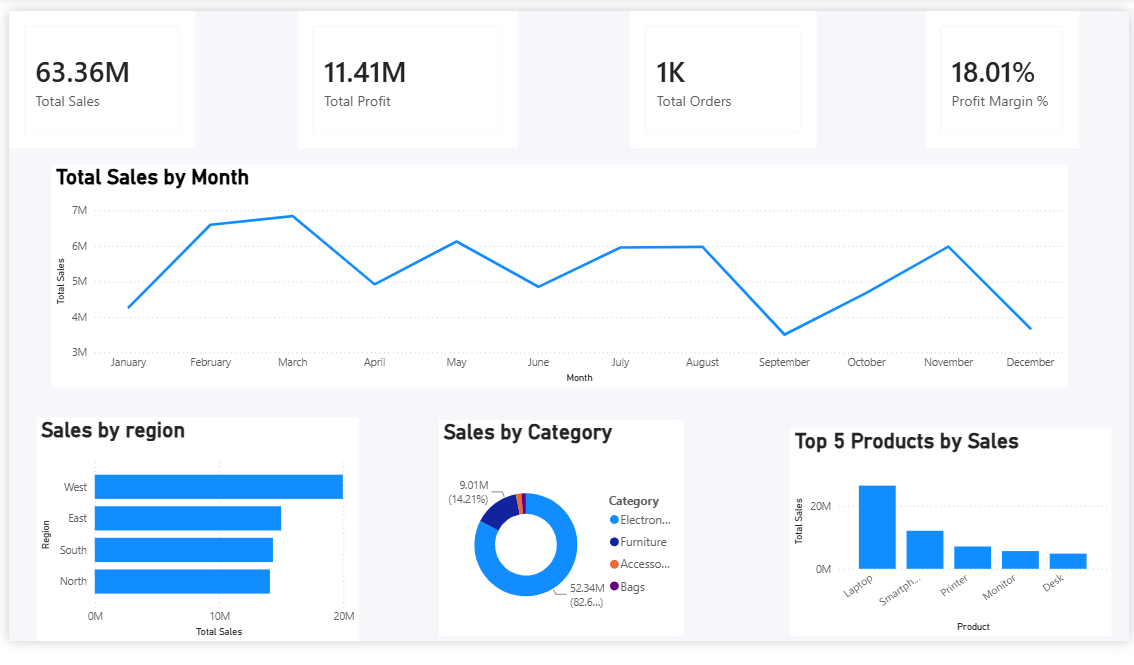

Layout of this report page (visuals, bound fields, positions):
{"tool":"powerbi","page":{"name":"Executive Dashboard","canvas":[1280,720],"ordinal":0},"visuals":[{"type":"cardVisual","fields":{"Data":["Sheet1.Total Sales"]},"box":[0,0,212.9,157.1],"z":0},{"type":"lineChart","fields":{"Y":["Sheet1.Total Sales"],"Category":["Sheet1.Order_Date.Variation.Date Hierarchy.Year","Sheet1.Order_Date.Variation.Date Hierarchy.Quarter","Sheet1.Order_Date.Variation.Date Hierarchy.Month"]},"box":[48,176,1161.4,254.3],"z":1000},{"type":"clusteredBarChart","title":"Sales by region","fields":{"Y":["Sheet1.Total Sales"],"Category":["Sheet1.Region"]},"box":[32,464,368,256],"z":2000},{"type":"donutChart","title":"Sales by Category","fields":{"Category":["Sheet1.Category"],"Y":["Sheet1.Total Sales"]},"box":[491.4,467.1,280,247.5],"z":3000},{"type":"clusteredColumnChart","title":"Top 5 Products by Sales","fields":{"Y":["Sheet1.Total Sales"],"Category":["Sheet1.Product"]},"box":[892.9,477.1,367.1,237.1],"z":4000},{"type":"cardVisual","fields":{"Data":["Sheet1.Total Orders"]},"box":[710,0,212.9,157.1],"z":5000},{"type":"cardVisual","fields":{"Data":["Sheet1.Profit Margin %"]},"box":[1047.1,0,175.7,157.1],"z":6000},{"type":"cardVisual","fields":{"Data":["Sheet1.Total Profit"]},"box":[330,0,251.4,157.1],"z":7000}]}

Visuals, with their boxes on the page's 1280x720 design canvas (x1, y1, x2, y2). These are canvas units, not pixel positions in the 1134x665 screenshot, which may show the page scaled, cropped or inside an application window:
cardVisual - Sheet1.Total Sales: left=0, top=0, right=213, bottom=157
lineChart - Sheet1.Total Sales x Sheet1.Order_Date.Variation.Date Hierarchy.Year: left=48, top=176, right=1209, bottom=430
"Sales by region" clusteredBarChart: left=32, top=464, right=400, bottom=720
"Sales by Category" donutChart: left=491, top=467, right=771, bottom=715
"Top 5 Products by Sales" clusteredColumnChart: left=893, top=477, right=1260, bottom=714
cardVisual - Sheet1.Total Orders: left=710, top=0, right=923, bottom=157
cardVisual - Sheet1.Profit Margin %: left=1047, top=0, right=1223, bottom=157
cardVisual - Sheet1.Total Profit: left=330, top=0, right=581, bottom=157
